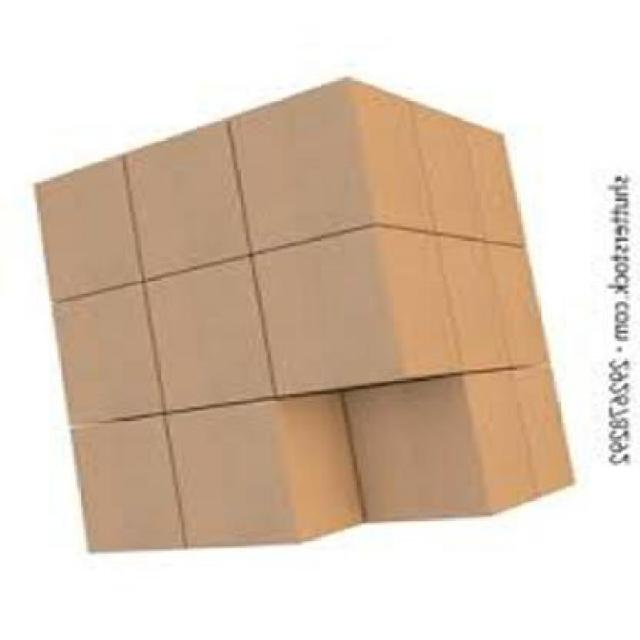normal: (251, 222, 457, 389)
